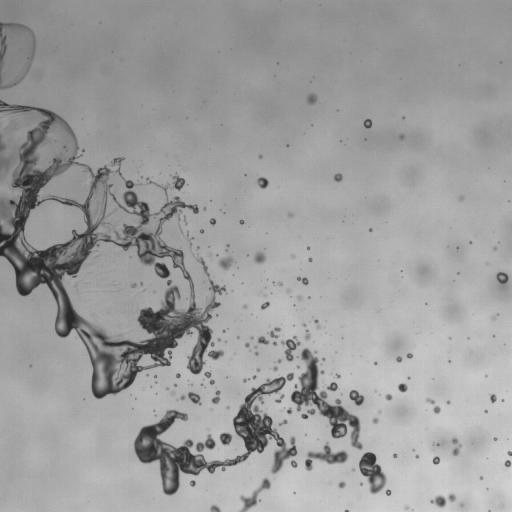droplet: (0, 22, 35, 90), (359, 452, 386, 494), (281, 335, 300, 361), (349, 390, 364, 405), (218, 256, 234, 269), (187, 392, 201, 404), (496, 272, 508, 283), (268, 327, 280, 338), (257, 177, 268, 188), (254, 252, 265, 263), (307, 93, 317, 104), (6, 122, 17, 132), (257, 336, 269, 344), (327, 382, 337, 391), (297, 276, 308, 284), (398, 383, 407, 392), (304, 329, 311, 340), (363, 119, 371, 128), (260, 301, 269, 309), (210, 505, 221, 511), (334, 173, 342, 181), (432, 456, 439, 464), (504, 460, 511, 468), (338, 481, 345, 488), (490, 394, 496, 402), (285, 408, 293, 414), (279, 419, 287, 425), (209, 218, 215, 225), (385, 394, 392, 400), (291, 460, 297, 467), (396, 356, 402, 362), (189, 480, 195, 486), (406, 353, 412, 358), (272, 366, 278, 371), (372, 418, 378, 423), (386, 489, 391, 495), (130, 283, 136, 287), (179, 395, 185, 399), (239, 220, 244, 224), (245, 342, 249, 347), (276, 359, 281, 363), (176, 373, 180, 378), (251, 375, 256, 379), (335, 374, 340, 378), (243, 378, 248, 382), (393, 453, 397, 458), (400, 134, 404, 138), (459, 196, 463, 200), (200, 229, 204, 233), (272, 341, 276, 345), (446, 400, 450, 404), (507, 451, 511, 455), (288, 213, 293, 216), (297, 296, 302, 299), (258, 155, 262, 158), (184, 219, 187, 223), (291, 254, 294, 258), (308, 258, 312, 261), (243, 305, 247, 308), (171, 391, 174, 395), (493, 437, 497, 440), (493, 246, 496, 249), (278, 282, 281, 285), (286, 289, 289, 292), (492, 316, 495, 319), (302, 323, 305, 326), (255, 352, 258, 355), (296, 365, 299, 368), (226, 406, 229, 409), (460, 503, 463, 506), (405, 506, 408, 509), (434, 443, 438, 445), (203, 207, 206, 209), (140, 282, 142, 285), (322, 358, 325, 360), (374, 362, 377, 364), (257, 368, 259, 371), (166, 387, 168, 390), (484, 410, 487, 412), (416, 455, 418, 458), (352, 468, 354, 471), (370, 228, 372, 230), (307, 247, 309, 249), (223, 330, 225, 332), (218, 338, 220, 340), (174, 384, 176, 386)
ligament: (0, 100, 226, 395), (135, 373, 297, 495), (290, 348, 362, 449), (305, 442, 348, 470), (239, 478, 270, 511), (146, 173, 185, 192), (430, 493, 455, 507), (426, 398, 440, 413), (452, 437, 461, 455), (204, 371, 214, 384), (211, 390, 220, 404), (314, 319, 320, 329), (187, 237, 192, 248), (344, 509, 349, 511)
